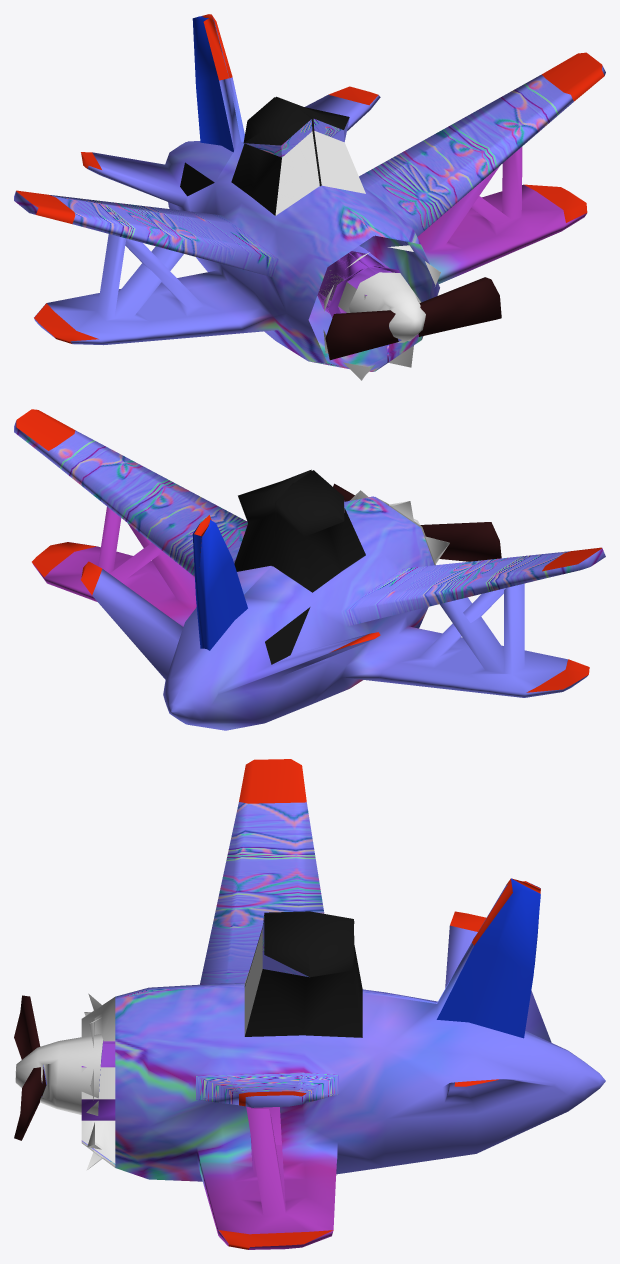
The picture shows the model from 3 angles, top to bottom: view 1: azimuth 30°, elevation 25°; view 2: azimuth 150°, elevation 25°; view 3: azimuth 270°, elevation 25°; orthographic projection. The views are drawn at different scales.
Visible parts, largest first — view 1: plane; view 2: plane; view 3: plane.
Boxes of the visible parts, box(x1,y1,x2,y2) form: plane: box(14, 14, 605, 380); plane: box(14, 409, 605, 730); plane: box(14, 759, 605, 1249).
Size of the model in its own units: 18.93 by 7.81 by 13.92.
6 materials, 1 textured.
